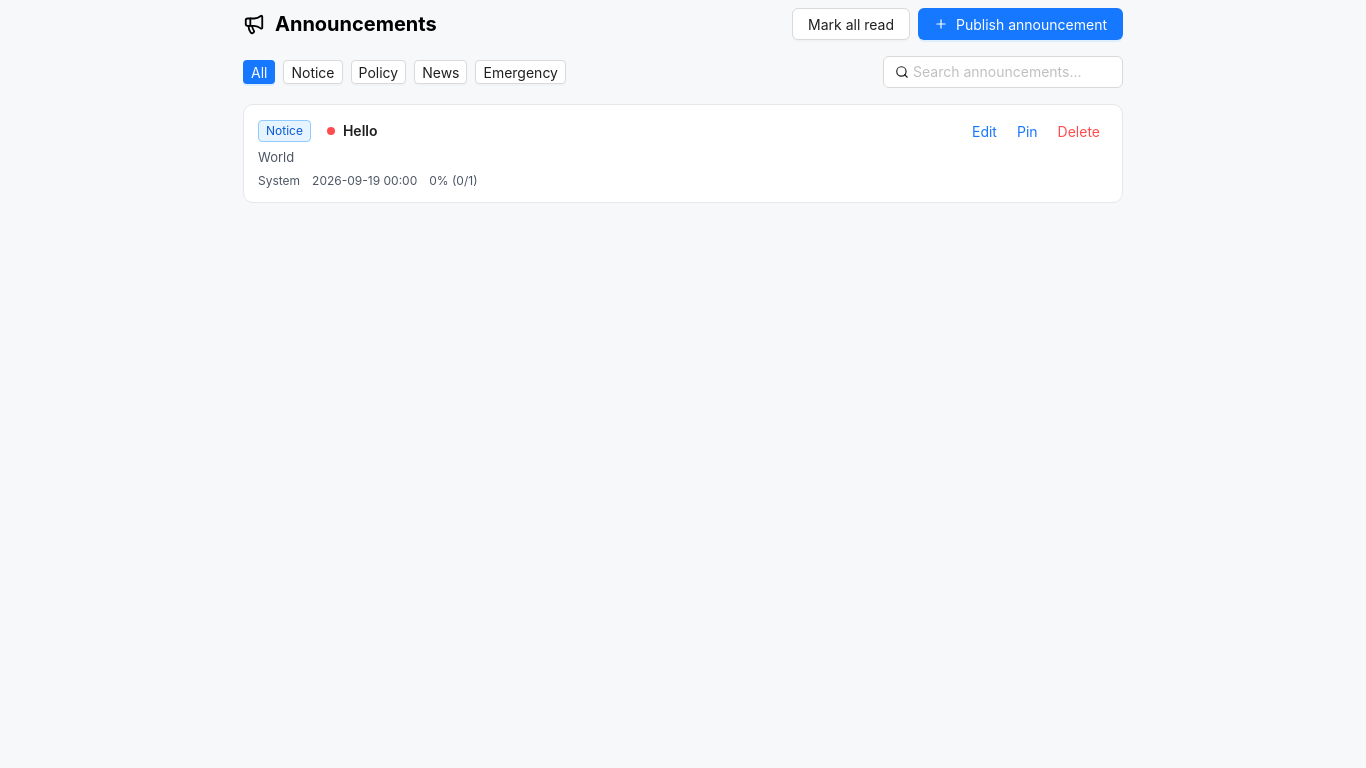
it: AnnouncementPage › shows the reader log when opening an announcement
What coordinates should you click on to do the following:
click the button with test id "org-announcement-4"
I would click on:
 (284, 131)
Its box is [243,104,1123,203].
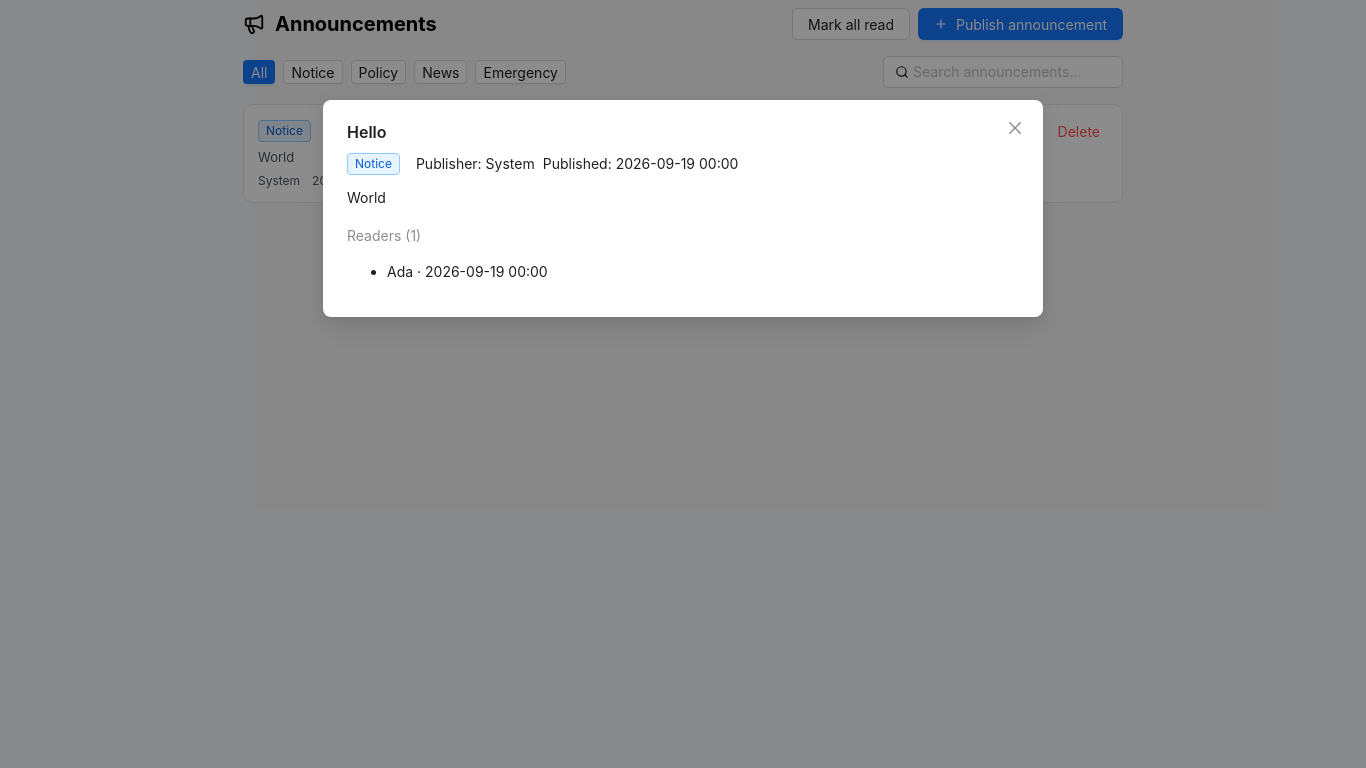
Expected: the list with test id "org-announcement-readers" shows "Ada", [387,263,413,280]
